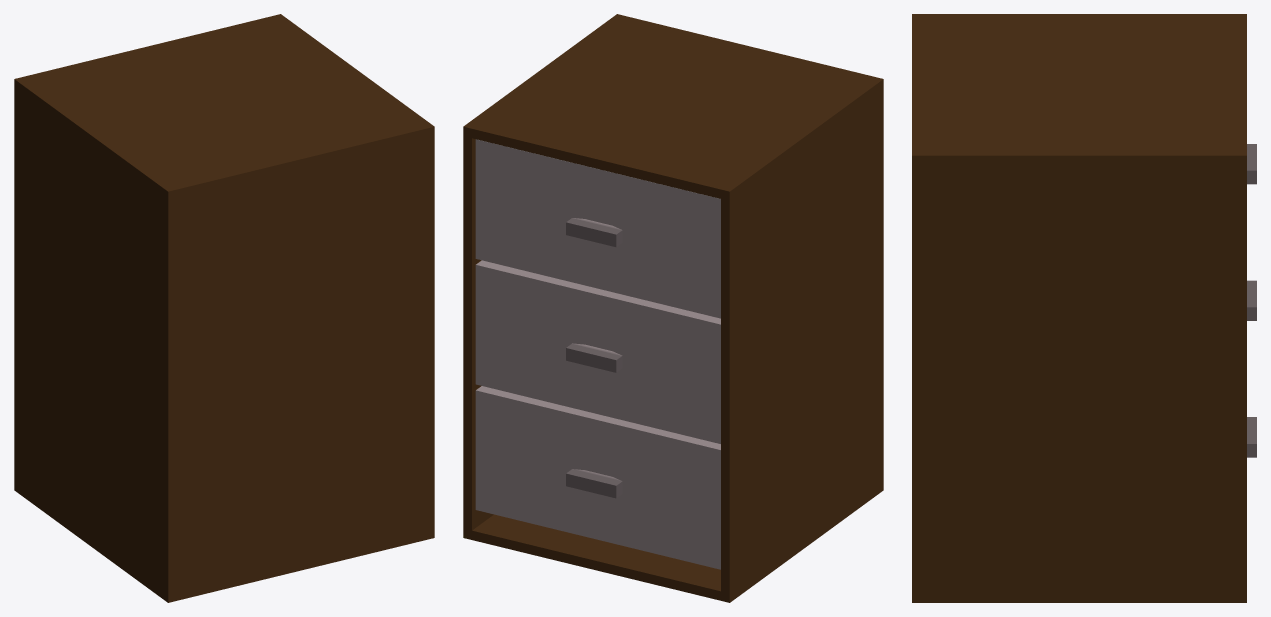
The model's file is Bedsidecabinetobject.fbx.
3 views of the same model, side by side, from view 1: azimuth 30°, elevation 25°; view 2: azimuth 150°, elevation 25°; view 3: azimuth 270°, elevation 25° (orthographic). The views are drawn at different scales.
Visible parts, largest first — view 1: Kostka; view 2: Kostka; view 3: Kostka.
Part boxes in pixels (box(x1,y1,x2,y2)): Kostka: box(14, 14, 434, 602); Kostka: box(463, 14, 883, 602); Kostka: box(912, 14, 1256, 602).
Size of the model in its own units: 200 by 295 by 206.
Materials: 1 (1 with a texture image).
